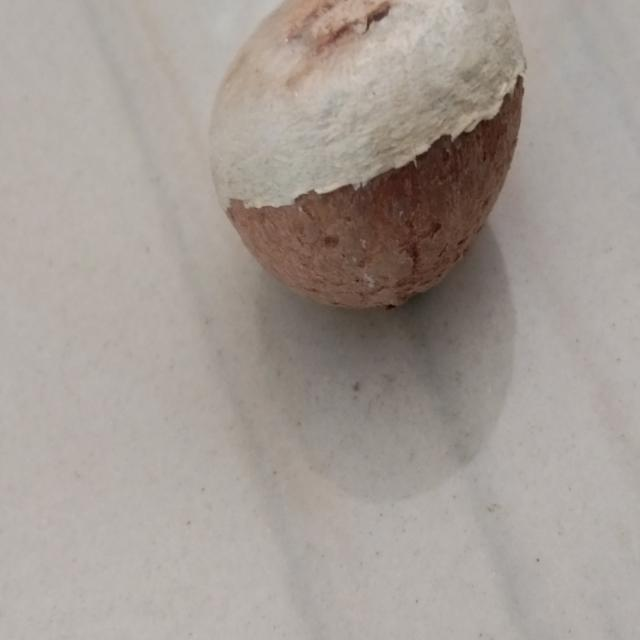phatora: (198, 0, 542, 348)
